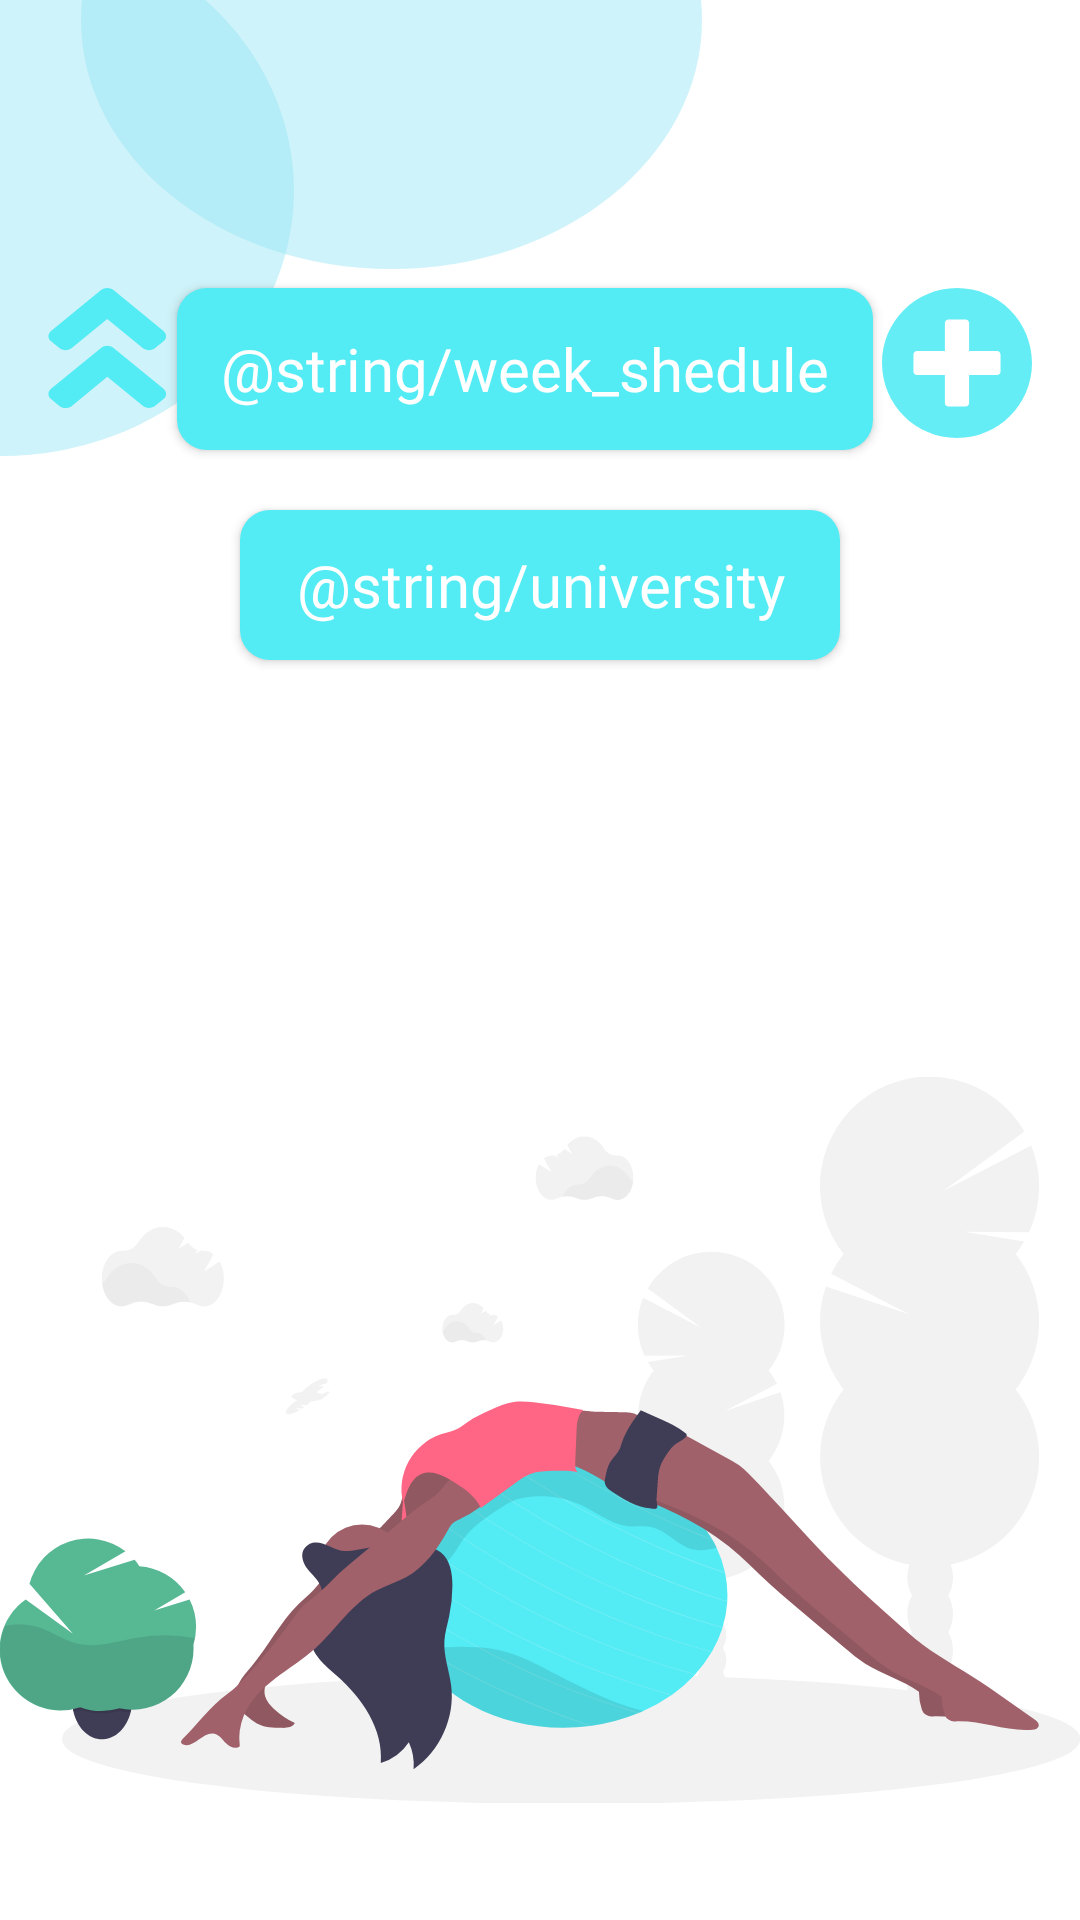

Screen size 1080w x 1920h. Icon name, then its center in pixels as (x,y):
add botton: (957,363)
higher: (107,348)
